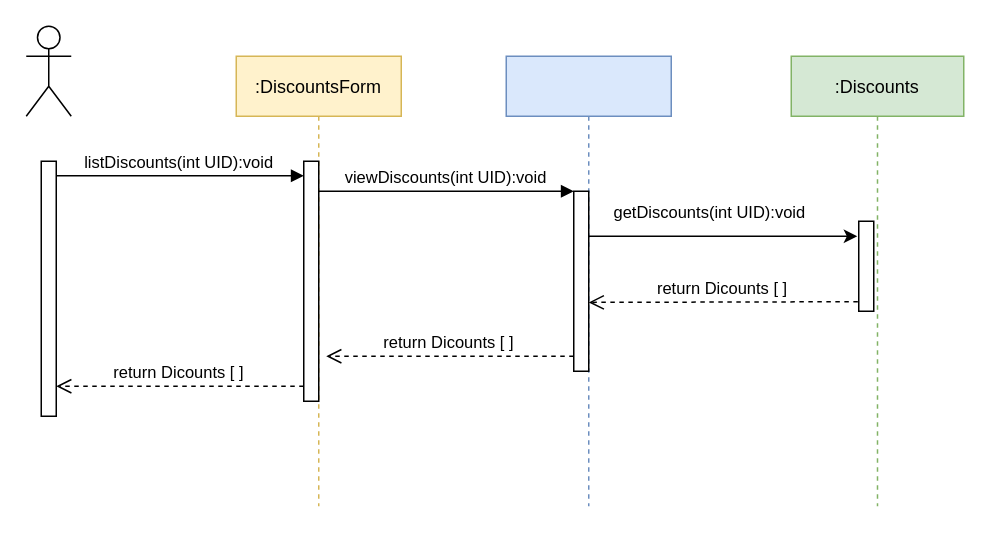
Image size: 990x533. Some labels were removed from this diagram. The box of each missing label's shape, as (x1, y1, x2, y2) in pixels:
:Discountscontroller: (505, 55, 671, 506)
user: (25, 25, 71, 116)
